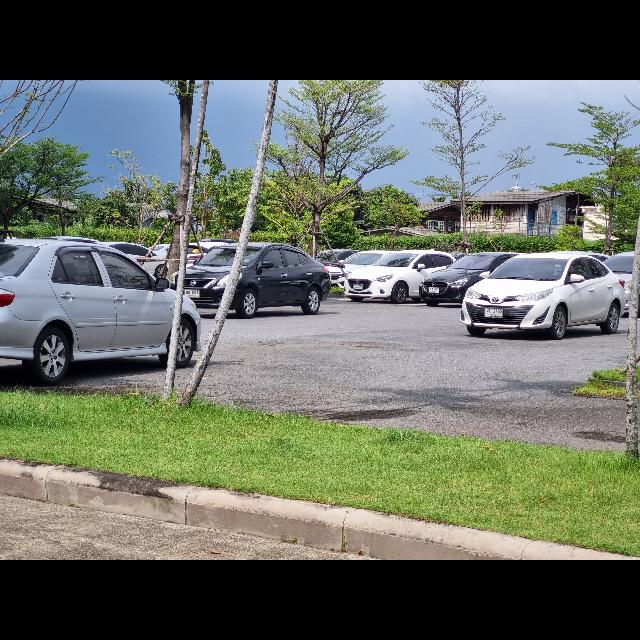licenseplate: (484, 306, 504, 318), (183, 288, 201, 298), (428, 286, 439, 294), (353, 283, 363, 289)
